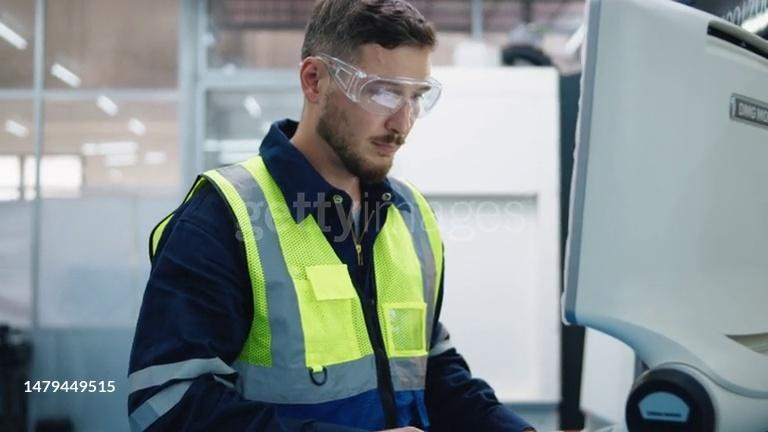person: (124, 1, 542, 432)
